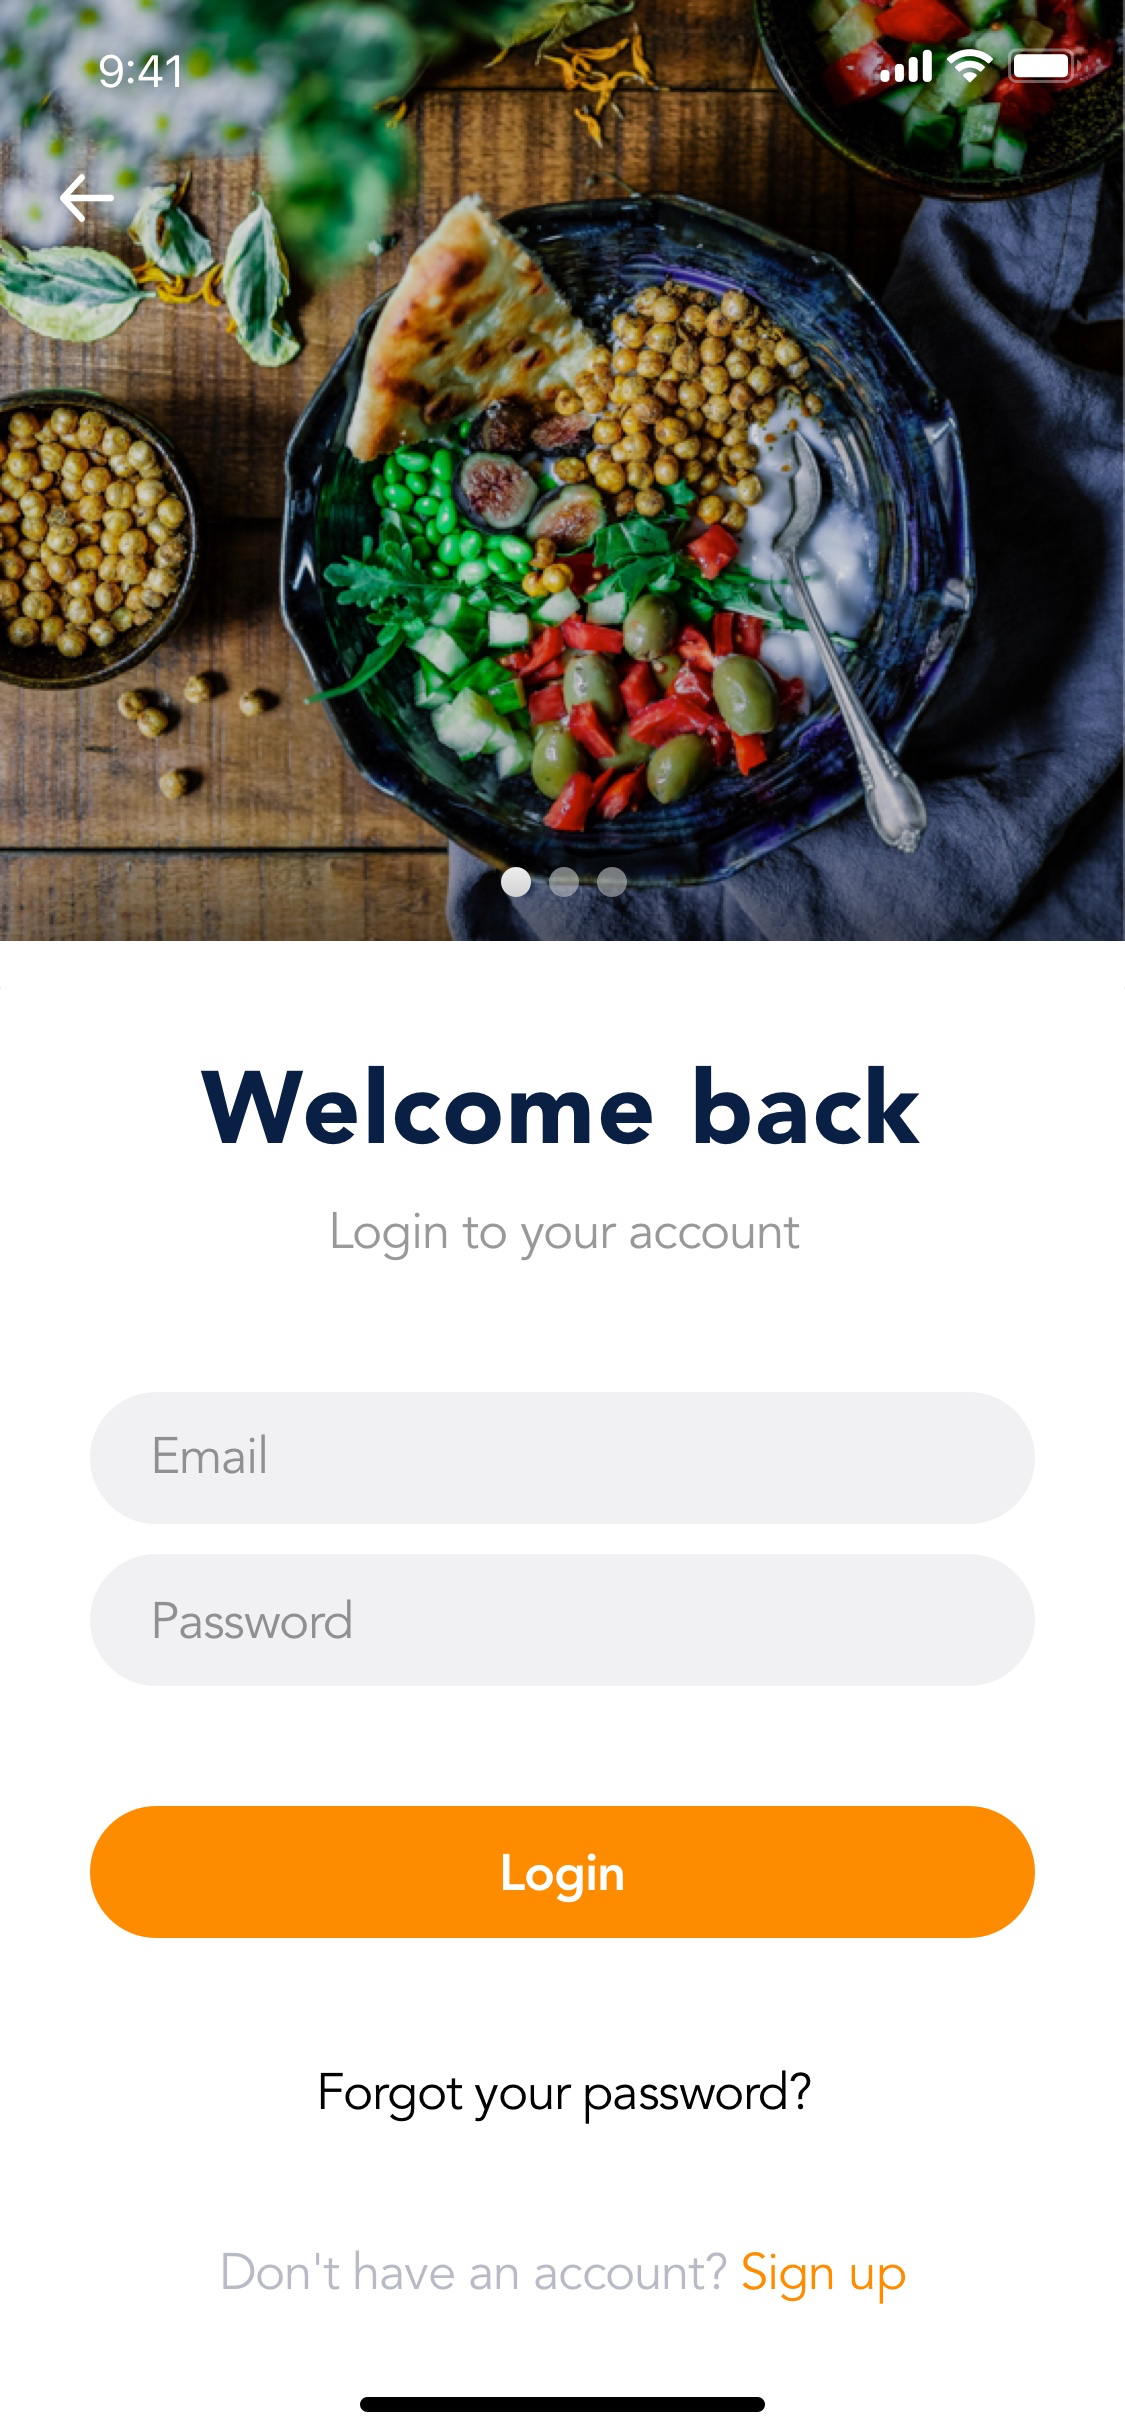EditText: (90, 1392, 1036, 1526), (90, 1554, 1036, 1687)
Icon: (61, 174, 117, 224)
Image: (2, 2, 1125, 941)
PageIndicator: (500, 865, 629, 900)
Text: (200, 1066, 921, 1147), (222, 2250, 907, 2305), (320, 2069, 813, 2125), (333, 1210, 800, 1261), (155, 1599, 353, 1641), (155, 1434, 267, 1474)
TextButton: (90, 1805, 1036, 1939)
UpperTaskBar: (99, 48, 1083, 90)
